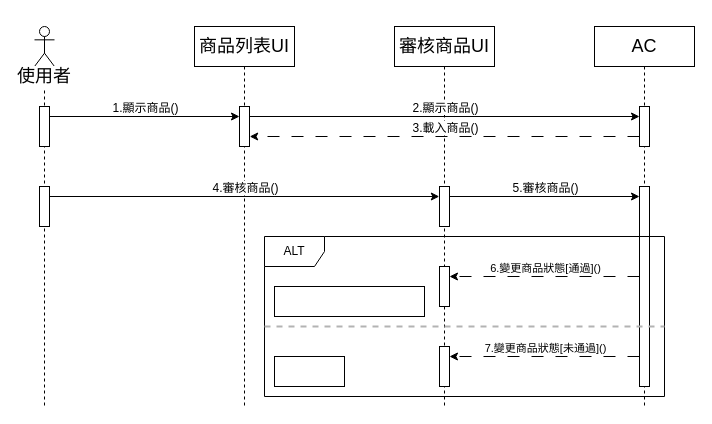
Image size: 712x424. Some labels were removed from this diagram. The shapes that lost their labels are listed below. From the top down, each one's centre as x and y in pixels, then its label:
At (x=349, y=301): "[IF 審核商品(通過)]".
At (x=309, y=371): "[ELSE]".
